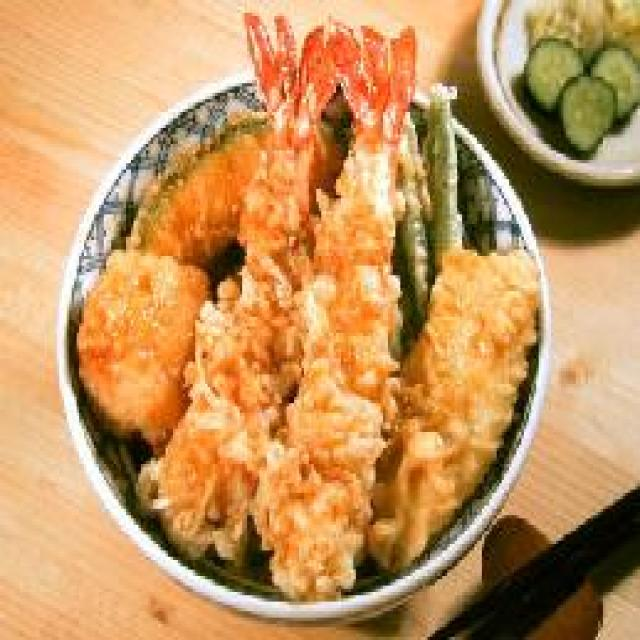熟制海鲜: (49, 58, 548, 620)
